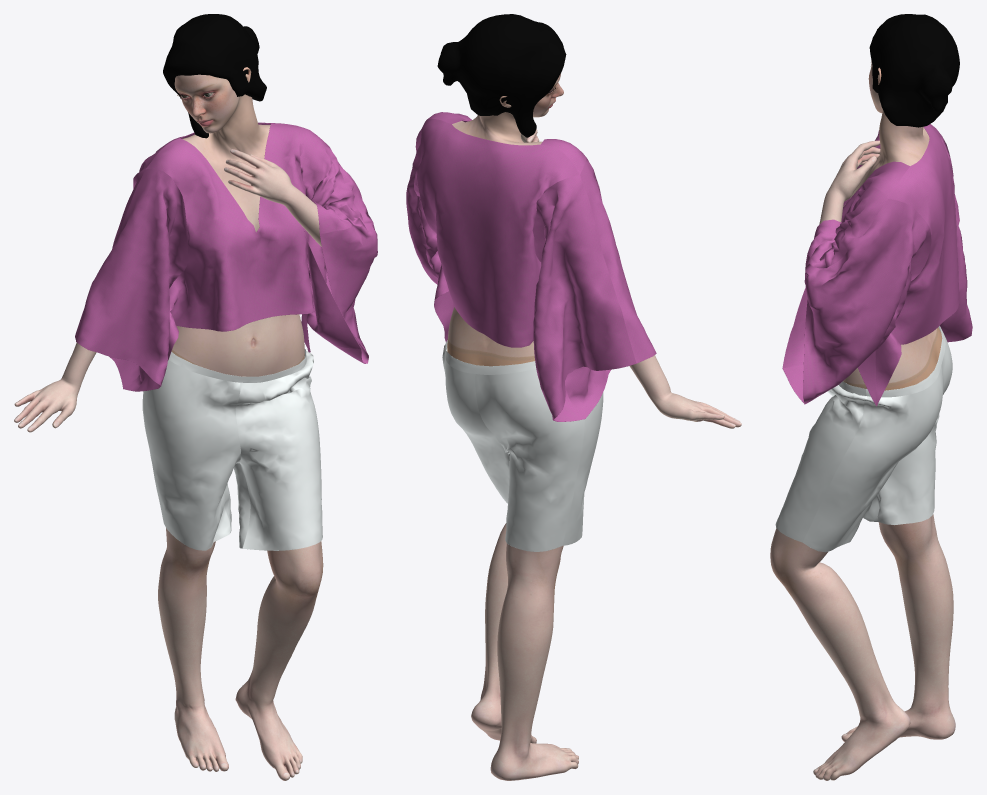
Rendered from Custom_View_2__Dramatic.obj.
3 views of the same model, side by side, from view 1: azimuth 30°, elevation 25°; view 2: azimuth 150°, elevation 25°; view 3: azimuth 270°, elevation 25° (orthographic). The views are drawn at different scales.
Bounding box in the file's own units: 821 × 1767 × 436.
